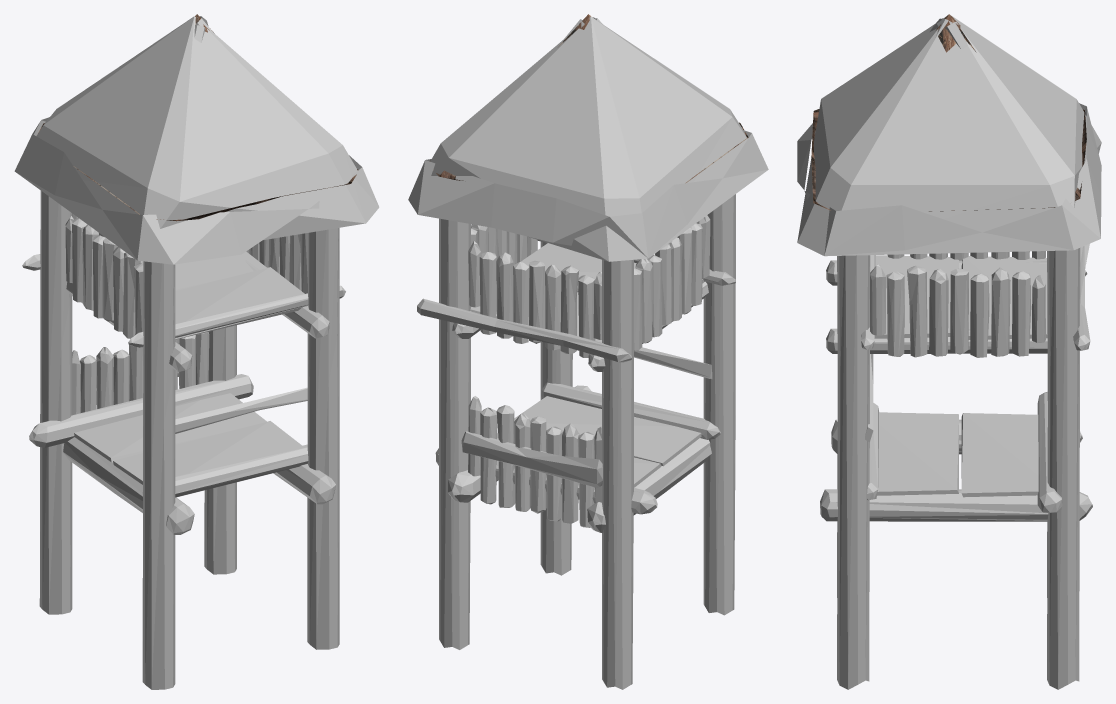
File: WatchTower_1_LOD2.fbx
The picture shows the model from 3 angles, left to right: view 1: azimuth 30°, elevation 25°; view 2: azimuth 150°, elevation 25°; view 3: azimuth 270°, elevation 25°; orthographic projection. The views are drawn at different scales.
Parts seen in each view (by area): view 1: Wood, Alpha, Roof; view 2: Wood, Alpha; view 3: Wood, Alpha, Roof.
Boxes of the visible parts, box(x1,y1,x2,y2) form: Wood: box(22, 16, 345, 689); Alpha: box(14, 16, 379, 264); Roof: box(38, 14, 358, 221); Wood: box(417, 17, 735, 689); Alpha: box(408, 16, 768, 261); Wood: box(820, 18, 1092, 689); Alpha: box(797, 15, 1101, 256); Roof: box(811, 14, 1086, 211).
Size of the model in its own units: 643 by 685 by 1562.
